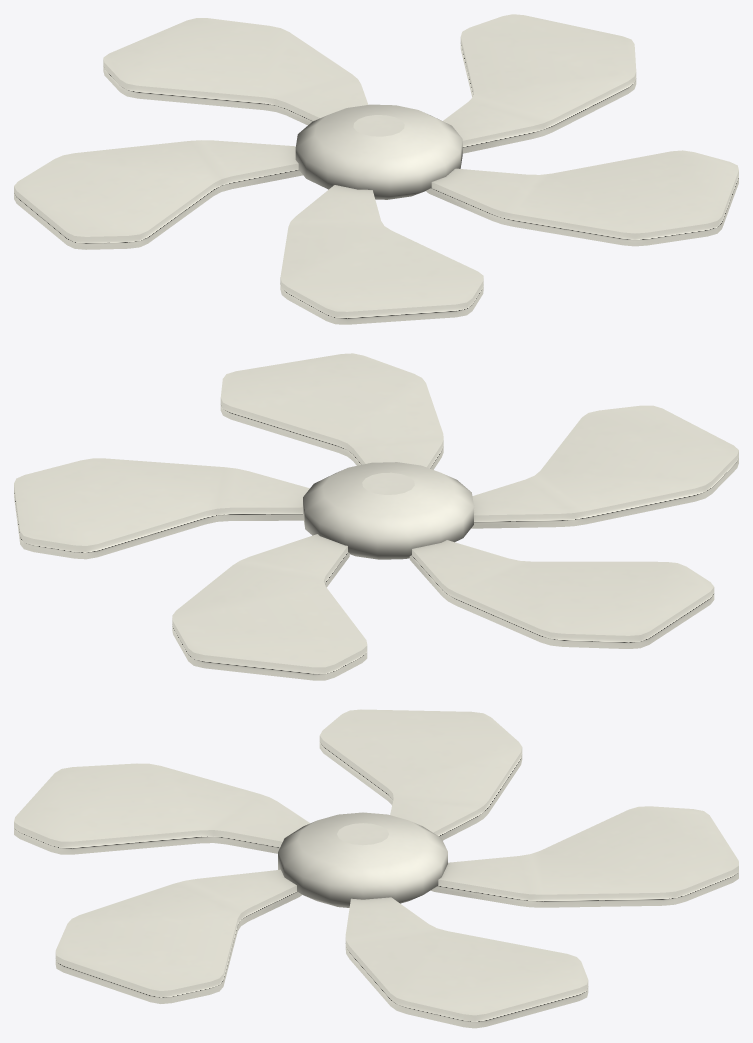
File: floor-fan-blades.fbx
The picture shows the model from 3 angles, top to bottom: view 1: azimuth 30°, elevation 25°; view 2: azimuth 150°, elevation 25°; view 3: azimuth 270°, elevation 25°; orthographic projection. The views are drawn at different scales.
Visible parts, largest first — view 1: floor-fan-blades; view 2: floor-fan-blades; view 3: floor-fan-blades.
Part boxes in pixels (x1,y1,x2,y2): floor-fan-blades: (14,14,738,324); floor-fan-blades: (14,353,738,680); floor-fan-blades: (14,709,738,1028).
Size of the model in its own units: 11075 by 800 by 11090.
